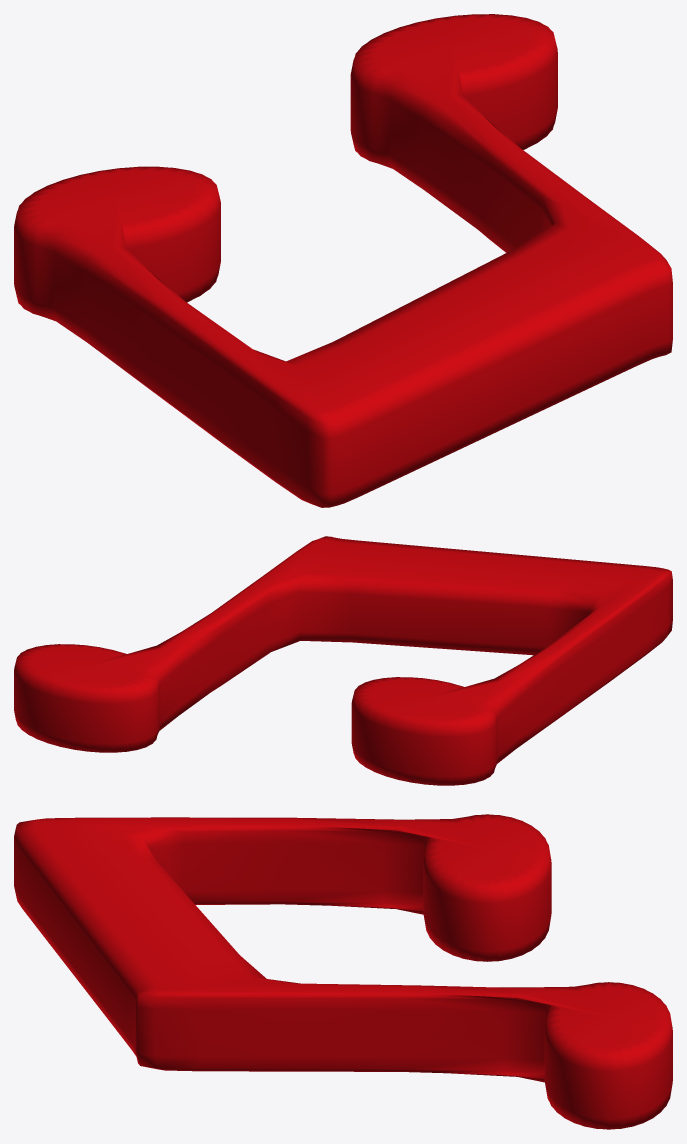
File: uploads_files_2463288_Eighth+note.obj
3 renders of one model, top to bottom at view 1: azimuth 30°, elevation 25°; view 2: azimuth 150°, elevation 25°; view 3: azimuth 270°, elevation 25°, orthographic. The views are drawn at different scales.
Parts seen in each view (by area): view 1: obj1; view 2: obj1; view 3: obj1.
Part boxes in pixels (x1,y1,x2,y2): obj1: [14, 14, 672, 507]; obj1: [14, 536, 672, 785]; obj1: [14, 814, 672, 1129].
Size of the model in its own units: 1.04 by 0.1558 by 1.18.
